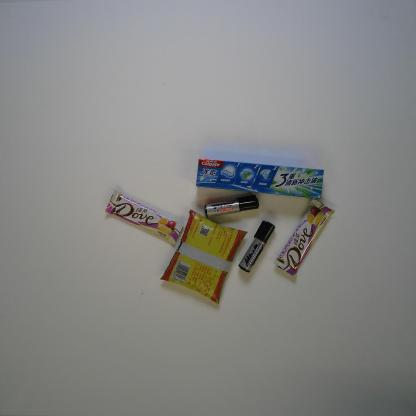Chocolate: (272, 198, 336, 278), (104, 190, 184, 245)
Personal Hygiene: (194, 158, 324, 200)
Seasoner: (160, 209, 248, 306)
Stationery: (238, 220, 276, 273), (204, 194, 260, 218)
